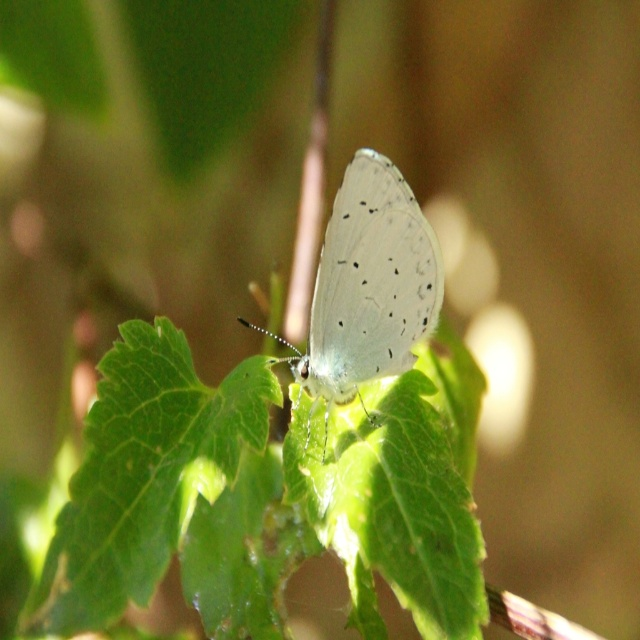Butterfly: (239, 147, 446, 463)
